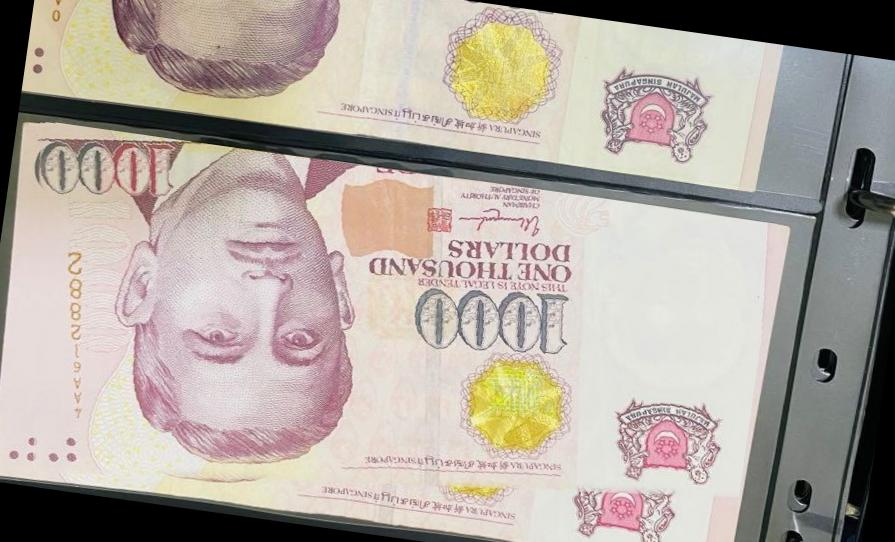1000SingaporeDollar: (0, 120, 776, 542)
